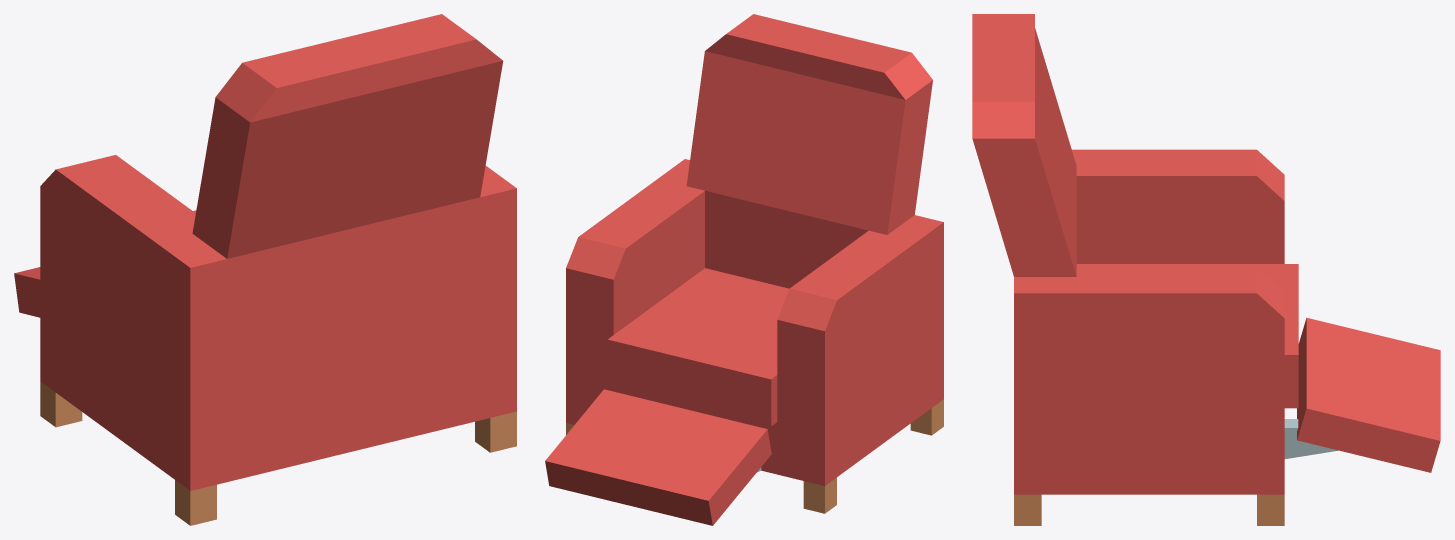
The model's file is loungeChairRelax.fbx.
3 views of the same model, side by side, from view 1: azimuth 30°, elevation 25°; view 2: azimuth 150°, elevation 25°; view 3: azimuth 270°, elevation 25° (orthographic). The views are drawn at different scales.
Parts seen in each view (by area): view 1: loungeChairRelax; view 2: loungeChairRelax; view 3: loungeChairRelax.
Boxes of the visible parts, x1=… form: loungeChairRelax: x1=14, y1=14, x2=516, y2=525; loungeChairRelax: x1=545, y1=14, x2=943, y2=525; loungeChairRelax: x1=972, y1=14, x2=1440, y2=525.
Bounding box in the file's own units: 4.9 × 6.3 × 6.75.
